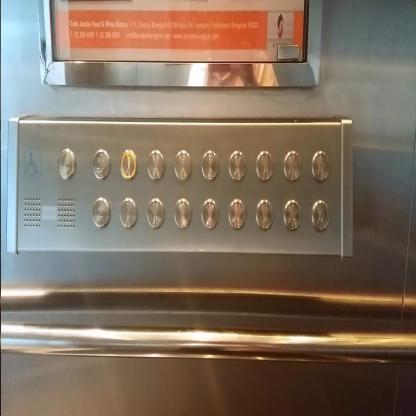1: (120, 149, 136, 179)
11: (255, 150, 273, 180)
12: (255, 198, 273, 229)
15: (312, 151, 329, 182)
16: (311, 199, 329, 231)
CH: (24, 148, 42, 178)
blur: (146, 148, 165, 180), (119, 196, 137, 228), (201, 149, 219, 180), (283, 150, 301, 181), (283, 200, 301, 231), (228, 150, 246, 180), (228, 198, 246, 228), (58, 148, 75, 179), (174, 149, 191, 180), (201, 198, 218, 229), (174, 197, 191, 228), (147, 198, 164, 228)
close: (92, 147, 110, 179)
open: (92, 196, 110, 228)
